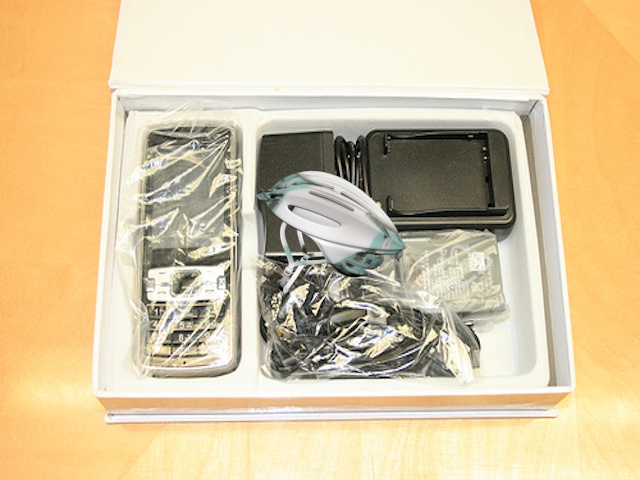bike_helmet: (243, 161, 416, 304)
